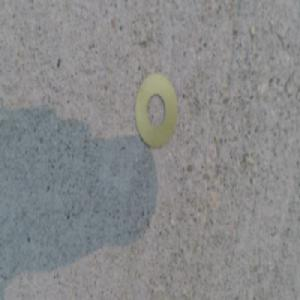Washer: (134, 74, 178, 152)
